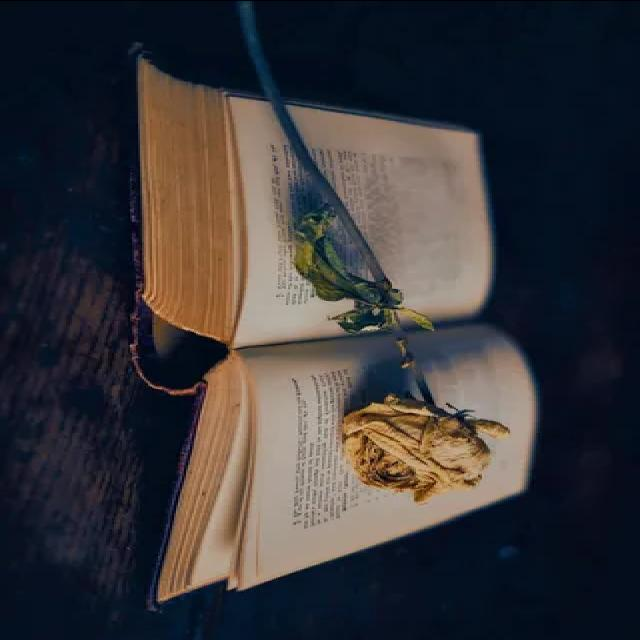book: (96, 39, 554, 610)
